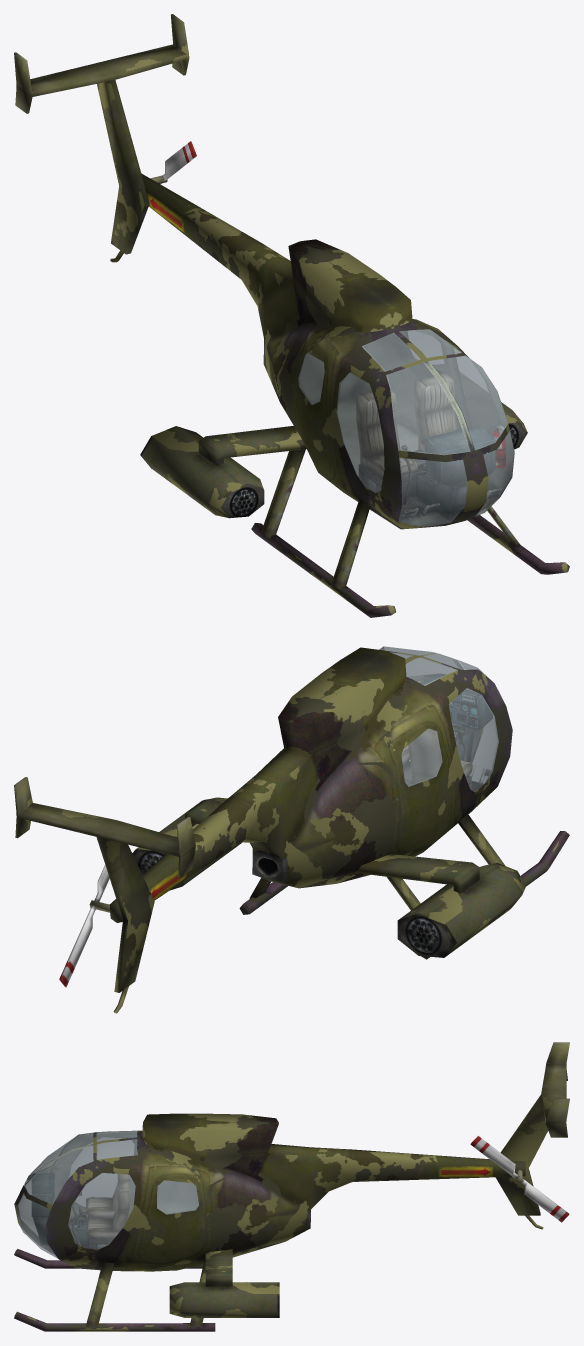
The picture shows the model from 3 angles, top to bottom: view 1: azimuth 30°, elevation 25°; view 2: azimuth 150°, elevation 25°; view 3: azimuth 270°, elevation 25°; orthographic projection. The views are drawn at different scales.
Visible parts, largest first — view 1: Helicopter, Glass, Cockpit; view 2: Helicopter, Glass, Cockpit, Tail_Rotor; view 3: Helicopter, Glass, Cockpit, Tail_Rotor.
Boxes of the visible parts, left/top/right/bottom form: Helicopter: left=14, top=14, right=569, bottom=617; Glass: left=298, top=329, right=514, bottom=526; Cockpit: left=298, top=329, right=513, bottom=525; Helicopter: left=14, top=647, right=569, bottom=1013; Glass: left=379, top=646, right=498, bottom=791; Cockpit: left=380, top=647, right=498, bottom=791; Tail_Rotor: left=59, top=865, right=110, bottom=987; Helicopter: left=14, top=1042, right=569, bottom=1331; Glass: left=16, top=1130, right=198, bottom=1258; Cockpit: left=16, top=1131, right=198, bottom=1251; Tail_Rotor: left=470, top=1136, right=569, bottom=1222.
Bounding box in the file's own units: 538 × 491 × 1098.
